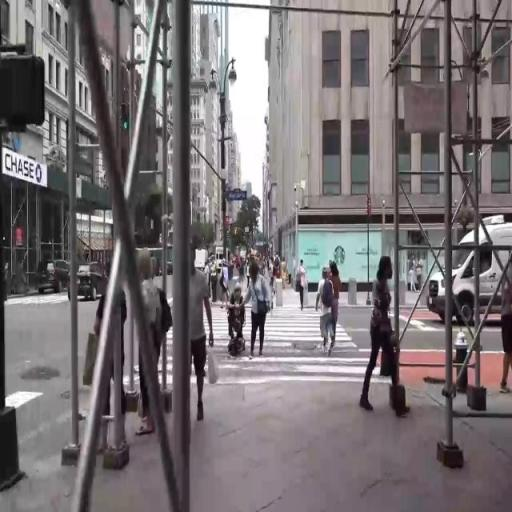person: (135, 235, 172, 441), (92, 257, 130, 456), (359, 250, 400, 425), (188, 240, 219, 435), (494, 237, 512, 400), (247, 260, 271, 356), (318, 263, 335, 361), (228, 285, 247, 361), (331, 252, 345, 334), (296, 260, 310, 317), (221, 257, 230, 303), (282, 258, 288, 293), (275, 250, 280, 280)
